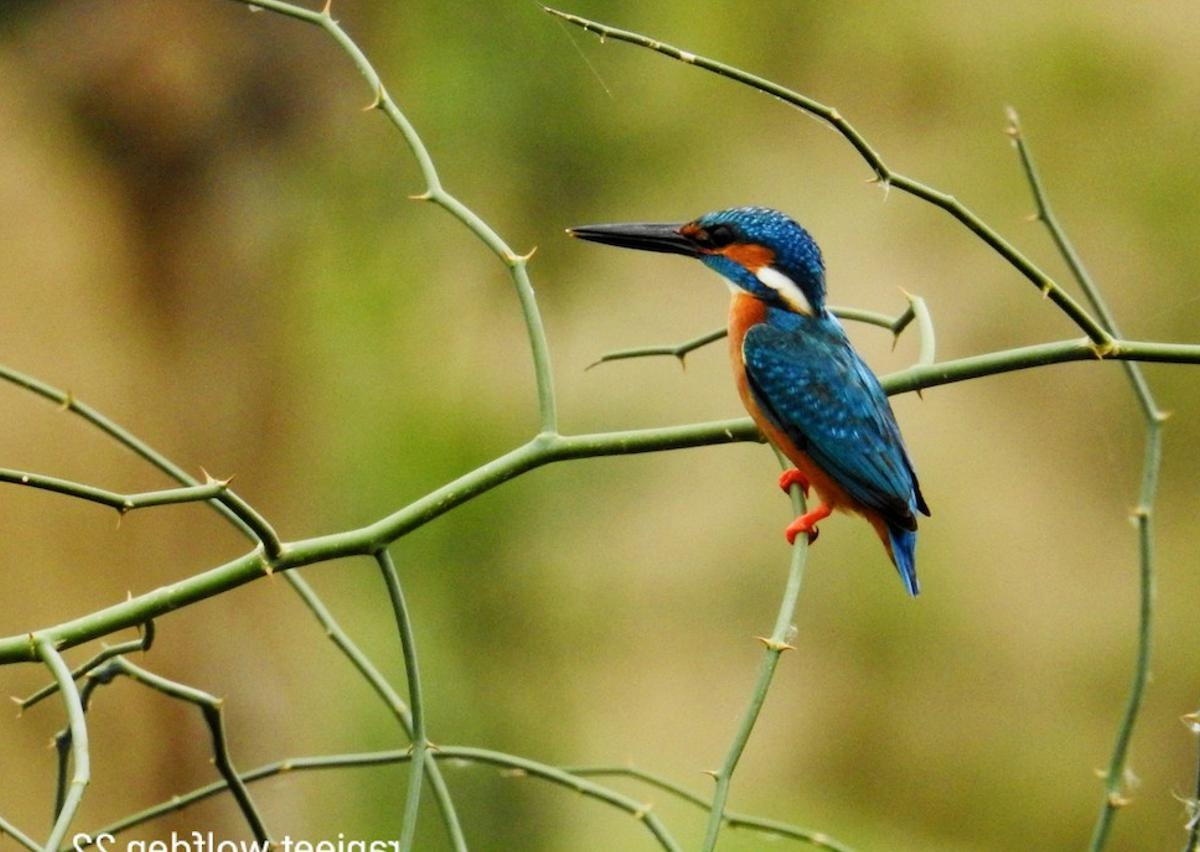kingfisher: (560, 171, 965, 585)
